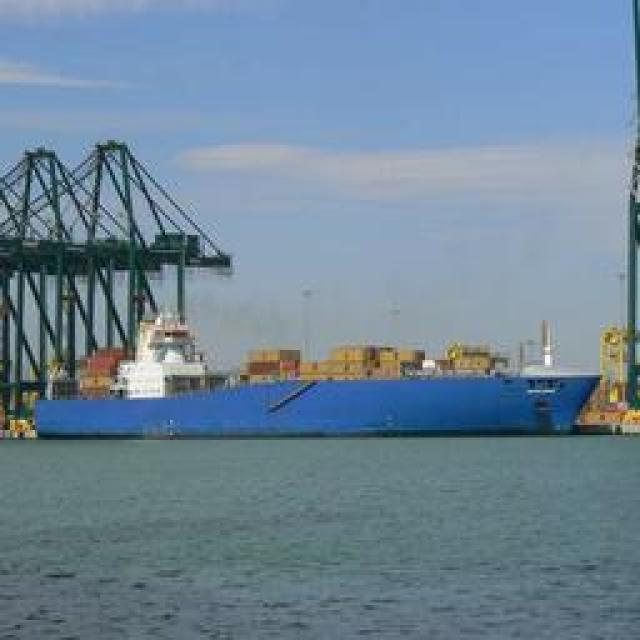CIV_Ship: (35, 342, 615, 436)
